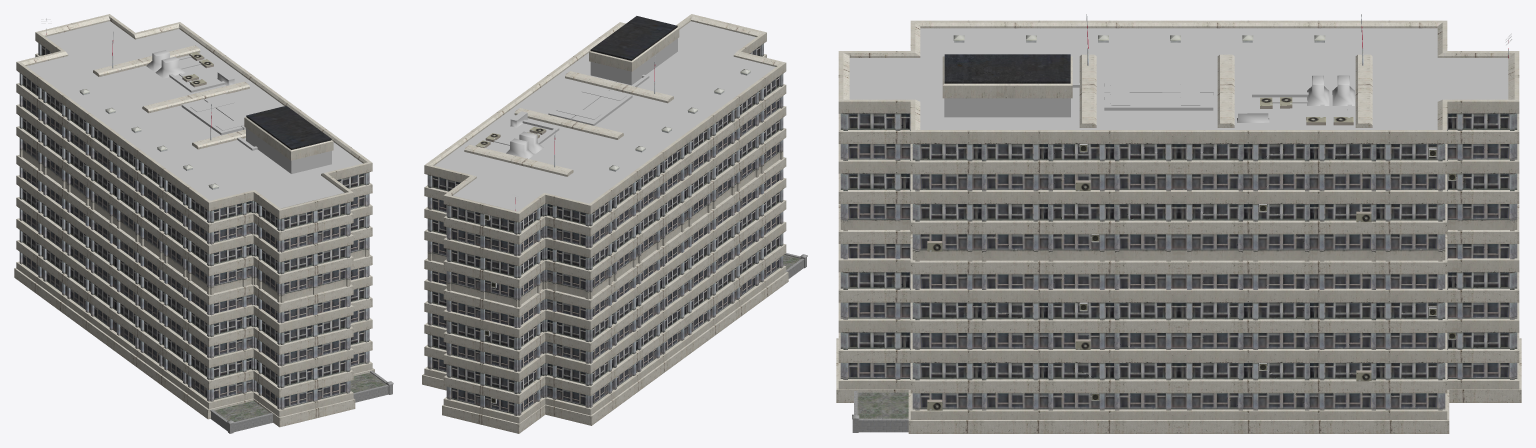
File: u2NEBuild7.gltf
3 views of the same model, side by side, from view 1: azimuth 30°, elevation 25°; view 2: azimuth 150°, elevation 25°; view 3: azimuth 270°, elevation 25° (orthographic). The views are drawn at different scales.
Parts seen in each view (by area): view 1: u2NEBuild7; view 2: u2NEBuild7; view 3: u2NEBuild7.
Part boxes in pixels (left/top/right/bottom): u2NEBuild7: left=14, top=14, right=393, bottom=433; u2NEBuild7: left=422, top=14, right=807, bottom=433; u2NEBuild7: left=836, top=14, right=1521, bottom=433.
Bounding box in the file's own units: 9.33 × 13.51 × 23.8.
